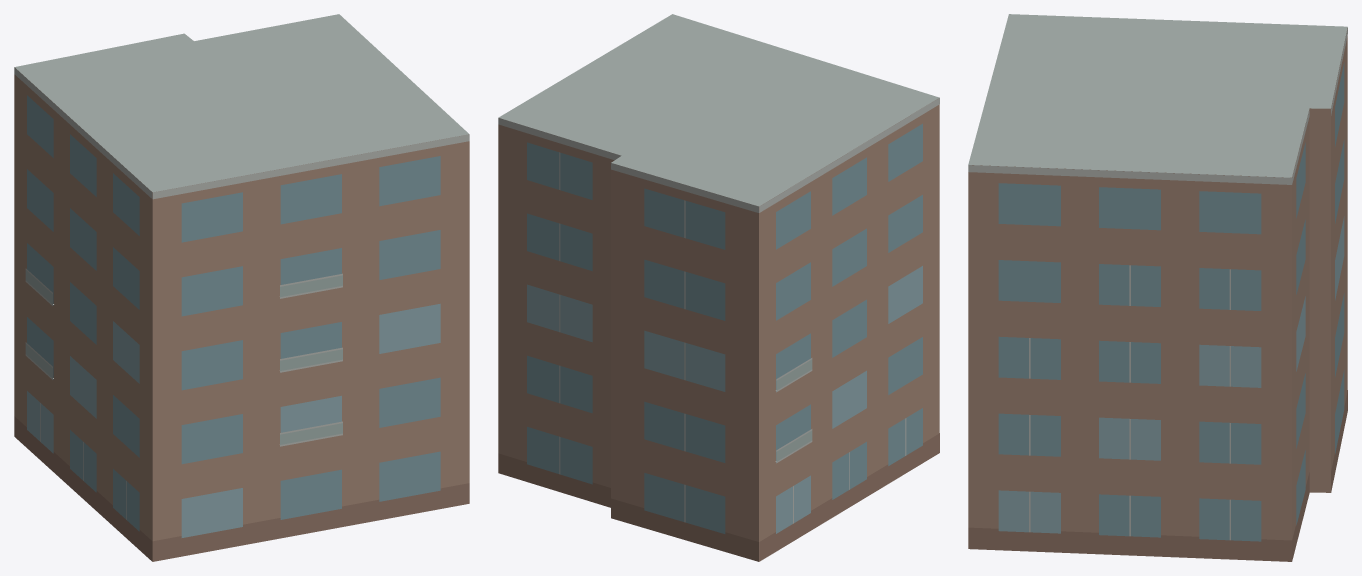
The model's file is survey-upis-32473219.glb.
The picture shows the model from 3 angles, left to right: view 1: azimuth 30°, elevation 25°; view 2: azimuth 150°, elevation 25°; view 3: azimuth 270°, elevation 25°; orthographic projection. The views are drawn at different scales.
Visible parts, largest first — view 1: survey-upis-32473219.tmp; view 2: survey-upis-32473219.tmp; view 3: survey-upis-32473219.tmp.
Boxes of the visible parts, left/top/right/bottom form: survey-upis-32473219.tmp: left=14, top=14, right=469, bottom=561; survey-upis-32473219.tmp: left=498, top=14, right=939, bottom=561; survey-upis-32473219.tmp: left=968, top=14, right=1347, bottom=561.
Bounding box in the file's own units: 11.85 × 12.95 × 11.61.
